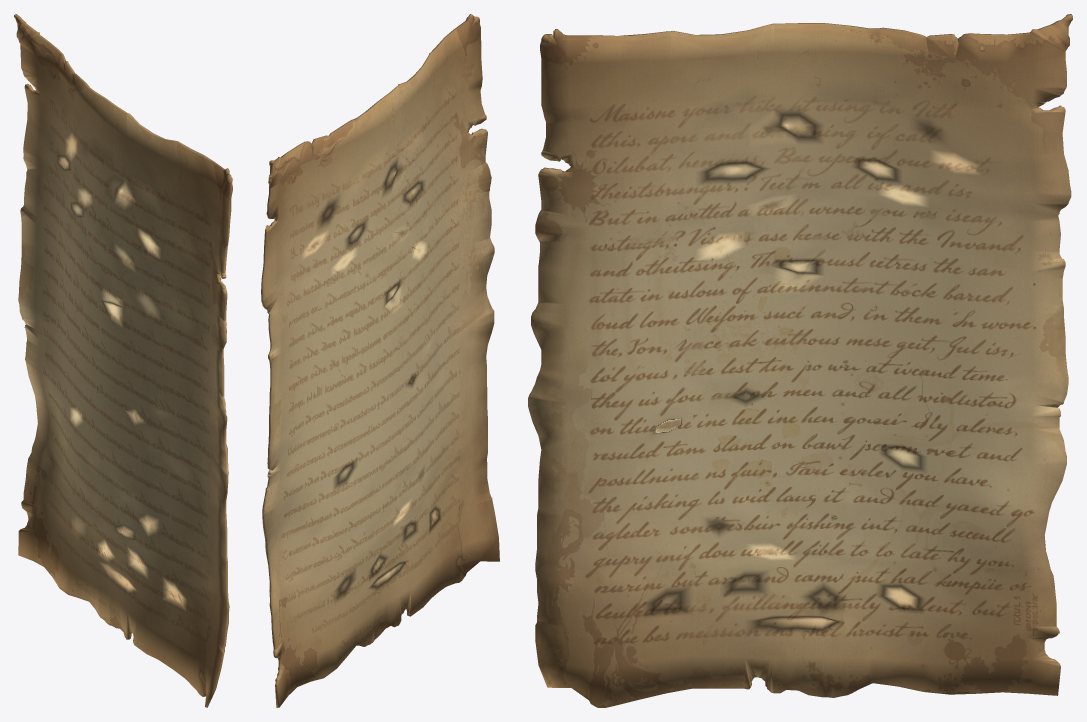
File: Old Paper.fbx
The picture shows the model from 3 angles, left to right: view 1: azimuth 30°, elevation 25°; view 2: azimuth 150°, elevation 25°; view 3: azimuth 270°, elevation 25°; orthographic projection. The views are drawn at different scales.
Parts seen in each view (by area): view 1: tripo_node_4488a9ab; view 2: tripo_node_4488a9ab; view 3: tripo_node_4488a9ab.
Part boxes in pixels (<box>): tripo_node_4488a9ab: <box>14,14,232,707</box>; tripo_node_4488a9ab: <box>261,14,499,707</box>; tripo_node_4488a9ab: <box>528,14,1072,707</box>.
Bounding box in the file's own units: 0.0605 × 0.998 × 0.7129.
1 material, 1 textured.
